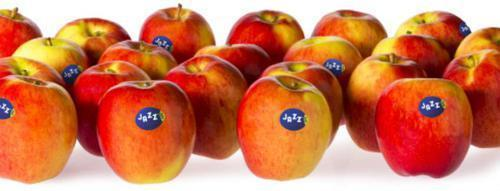apple: (96, 81, 197, 185), (375, 76, 471, 181), (239, 76, 331, 183), (166, 55, 248, 161), (346, 52, 429, 154), (1, 75, 77, 184), (72, 60, 151, 159), (260, 61, 343, 149), (444, 49, 500, 152), (140, 8, 216, 62), (226, 11, 305, 62), (13, 37, 93, 86), (311, 10, 388, 59), (55, 17, 130, 65), (395, 10, 473, 56), (98, 39, 179, 82), (1, 57, 69, 94), (1, 9, 43, 57), (453, 26, 500, 57)
